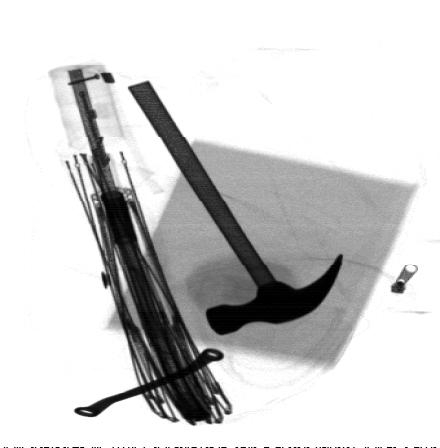Hammer: (127, 79, 345, 335)
Wrench: (75, 349, 225, 417)
